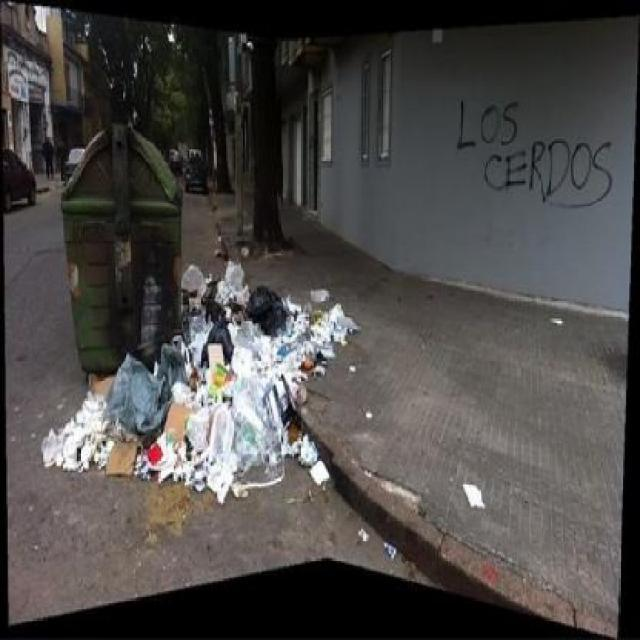garbage: (46, 355, 278, 490), (188, 256, 347, 393), (460, 474, 486, 513)
